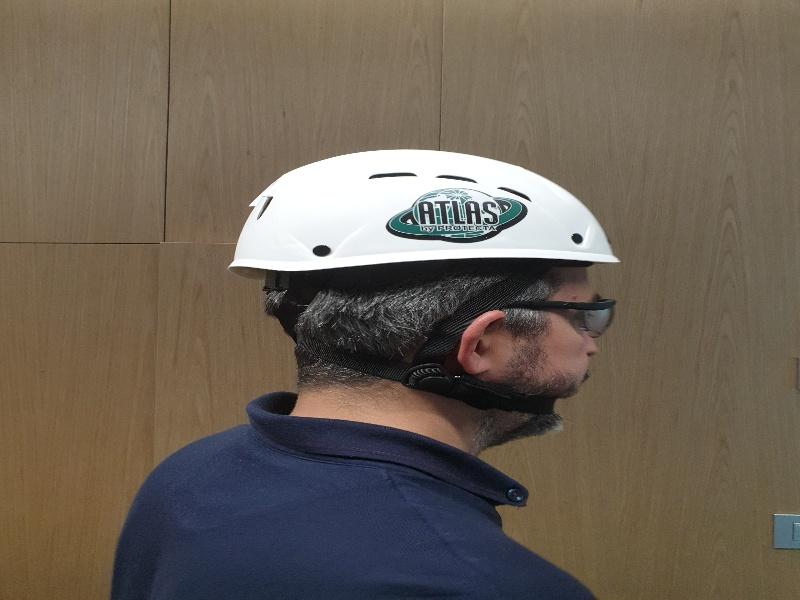Baret: (231, 150, 624, 271)
Gozluk: (501, 297, 617, 338)
